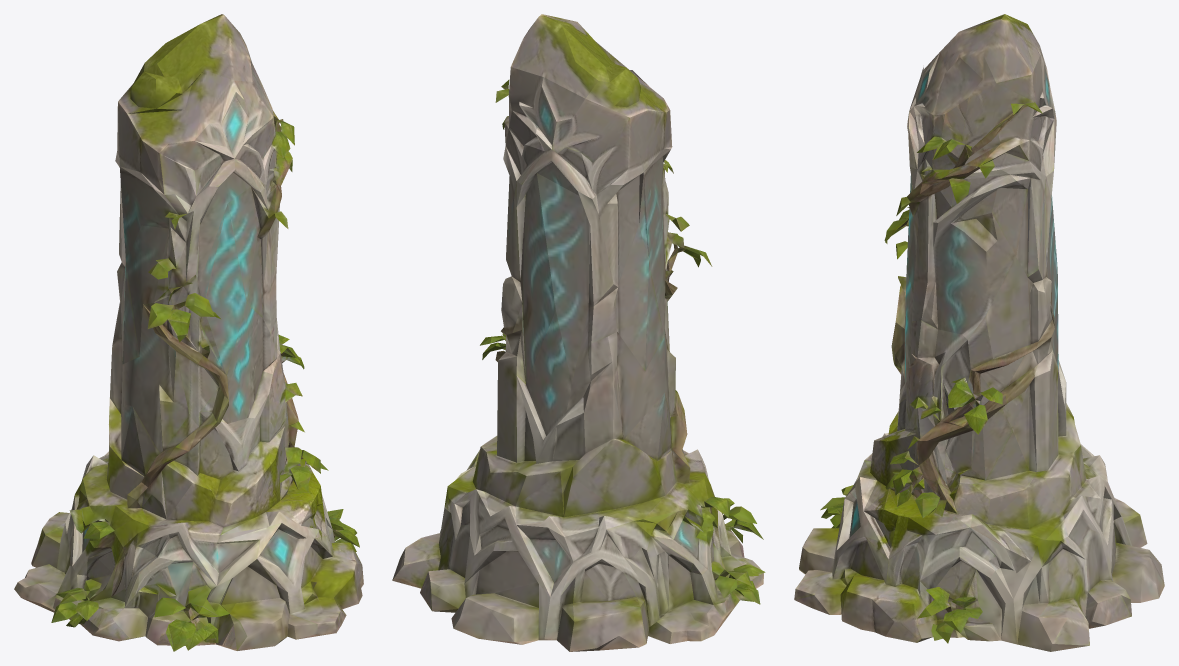
The model's file is prop_runepillar.glb.
3 renders of one model, left to right at view 1: azimuth 30°, elevation 25°; view 2: azimuth 150°, elevation 25°; view 3: azimuth 270°, elevation 25°, orthographic. The views are drawn at different scales.
Parts seen in each view (by area): view 1: output_unwrapped; view 2: output_unwrapped; view 3: output_unwrapped.
Boxes of the visible parts, left/top/right/bottom form: output_unwrapped: left=14, top=14, right=363, bottom=651; output_unwrapped: left=392, top=14, right=765, bottom=651; output_unwrapped: left=794, top=14, right=1164, bottom=651.
Bounding box in the file's own units: 1.11 × 1.9 × 1.11.
Materials: 1 (1 with a texture image).
